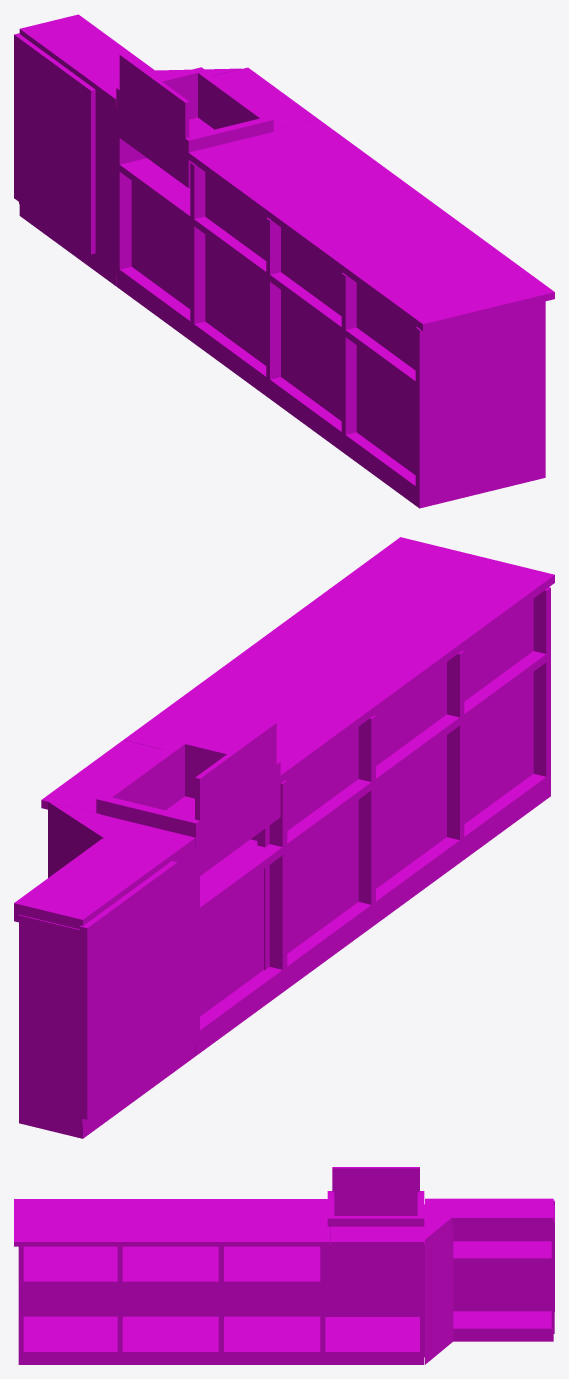
File: SM_BottomCupboardsCollider.fbx
3 views of the same model, one above another, from view 1: azimuth 30°, elevation 25°; view 2: azimuth 150°, elevation 25°; view 3: azimuth 270°, elevation 25° (orthographic). The views are drawn at different scales.
Visible parts, largest first — view 1: BottomCupboardsCollision; view 2: BottomCupboardsCollision; view 3: BottomCupboardsCollision.
Boxes of the visible parts, x1,y1,x2,y2 form: BottomCupboardsCollision: [14, 14, 554, 508]; BottomCupboardsCollision: [14, 537, 554, 1138]; BottomCupboardsCollision: [14, 1167, 554, 1364].
Size of the model in its own units: 73.71 by 121 by 377.
